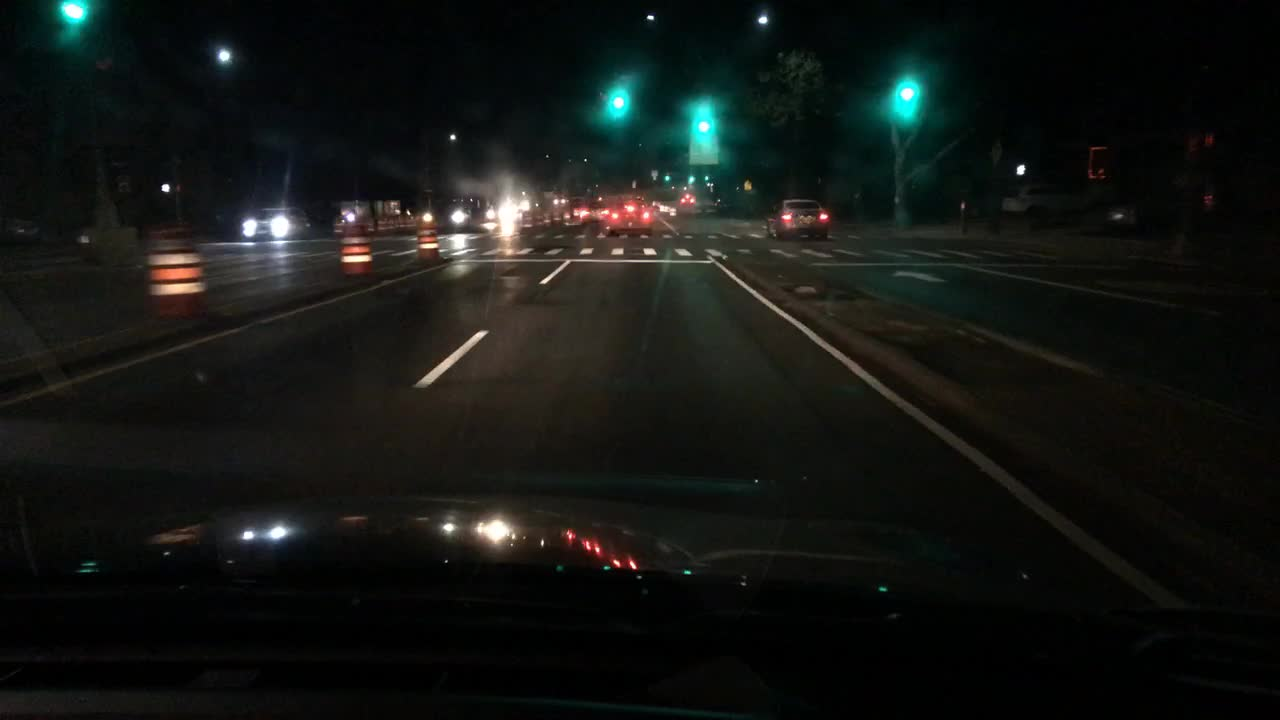car: (1099, 188, 1209, 238), (1002, 181, 1086, 220), (236, 204, 311, 241), (768, 200, 832, 241), (599, 195, 656, 236), (1, 218, 44, 247), (560, 203, 586, 230), (588, 197, 609, 212), (678, 190, 694, 208)
traffic light: (57, 0, 89, 35), (897, 81, 912, 116), (694, 108, 708, 137), (609, 91, 625, 114), (689, 173, 692, 183), (666, 172, 668, 181)
traffic sign: (688, 142, 718, 165), (742, 178, 752, 190), (630, 178, 636, 188), (651, 168, 657, 178)
